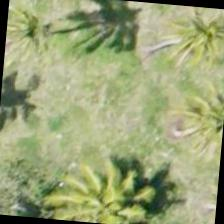Kelapa_Sawit: (67, 143, 165, 223), (3, 0, 84, 81), (167, 71, 223, 167), (156, 4, 223, 81)
